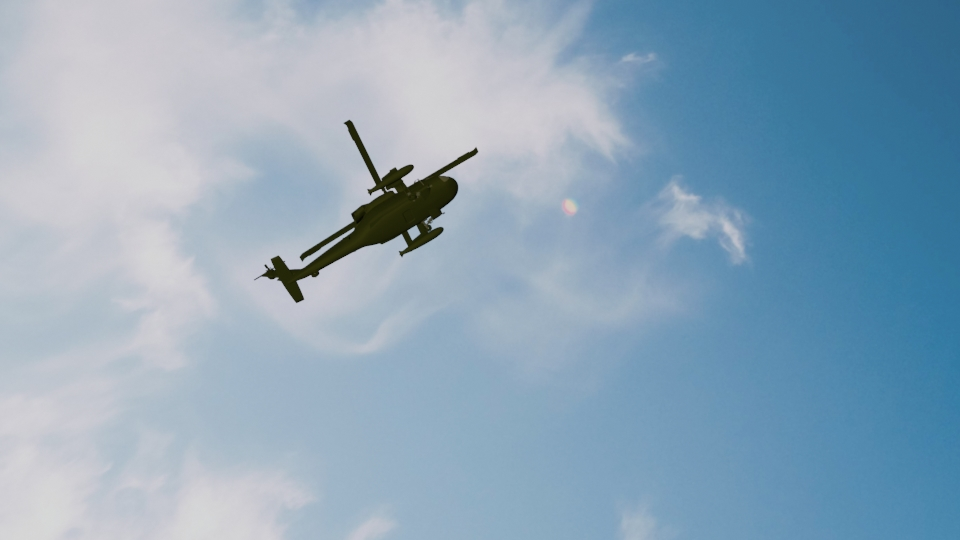heli: (256, 122, 478, 304)
